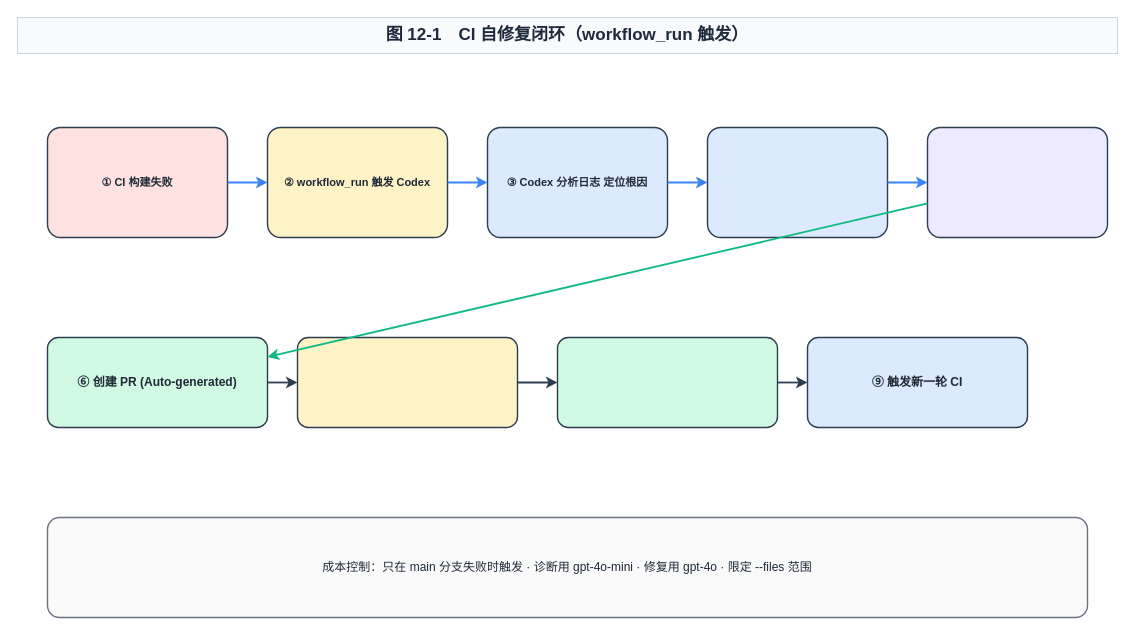
The diagram is 1135 pixels wide and 636 high, and some of its shapes have lost their labels. The shapes that lost their labels are listed below. From the top down, each one's box as (x1, y1, x2, y2) in pixels, then its label:
(706, 126, 888, 238): ④ 应用最小修复 (sandbox=workspace-write)
(926, 126, 1108, 238): ⑤ 重新运行 本地检查
(296, 336, 518, 428): ⑦ 人工审查 （不能自动合并）
(556, 336, 778, 428): ⑧ 合并到主线
